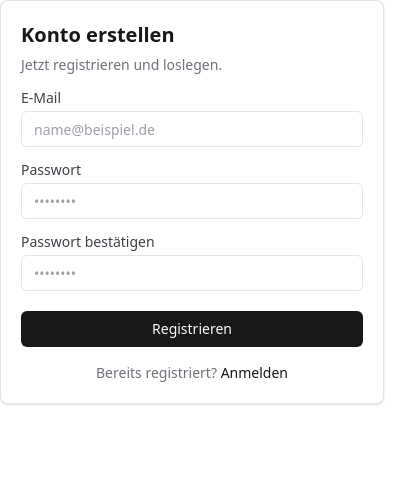
RegisterForm (Integration) › zeigt Serverfehler wenn E-Mail bereits registriert ist
The width and height of the screenshot is (401, 480).
Type "kunde@shopease.de" into the field labelled "E-Mail" at (192, 129), box left=21, top=111, right=363, bottom=147
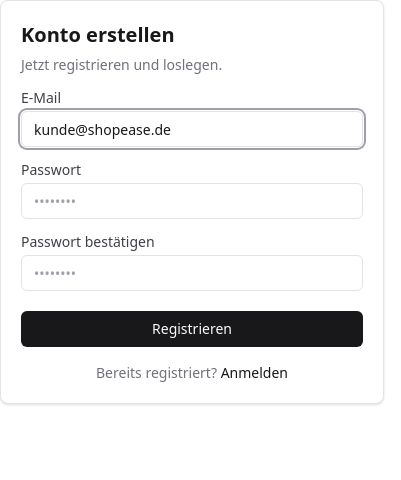
Type "passwort123" into the password field labelled "Passwort" at (192, 201), box left=21, top=183, right=363, bottom=219
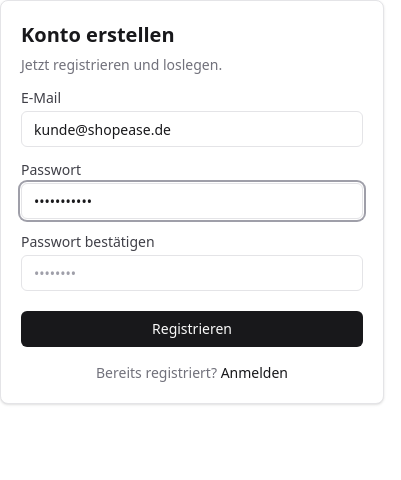
Type "passwort123" into the password field labelled "Passwort bestätigen" at (192, 273), box left=21, top=255, right=363, bottom=291
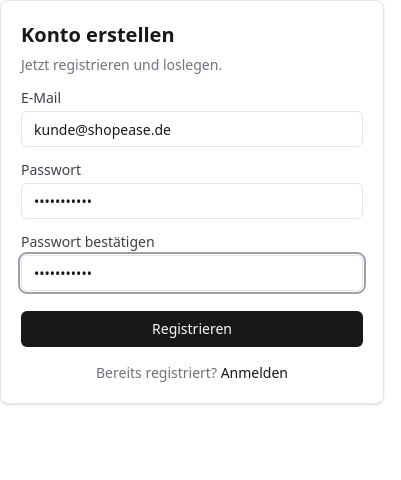
Click the button "Registrieren" at (192, 329), box left=21, top=311, right=363, bottom=347
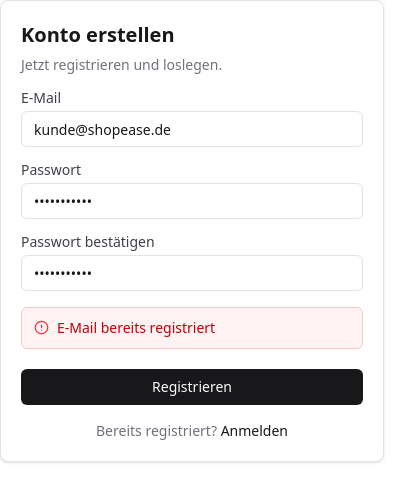
Expected: the message "E-Mail bereits registriert" is shown, left=21, top=307, right=363, bottom=349
